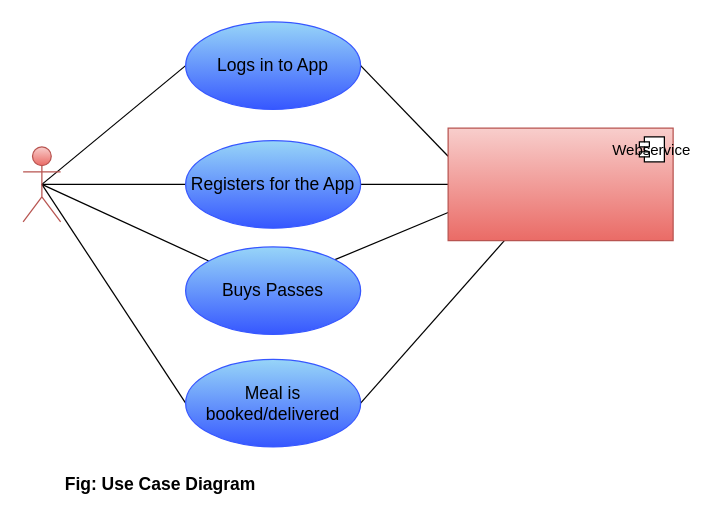
Some shapes in this 714 by 519 pixel diagram are drawn without their labels. The box of each missing label's shape, as (x1, y1, x2, y2) in pixels:
Actor: (22, 146, 61, 222)
«System» MealPalApp: (447, 127, 673, 241)
